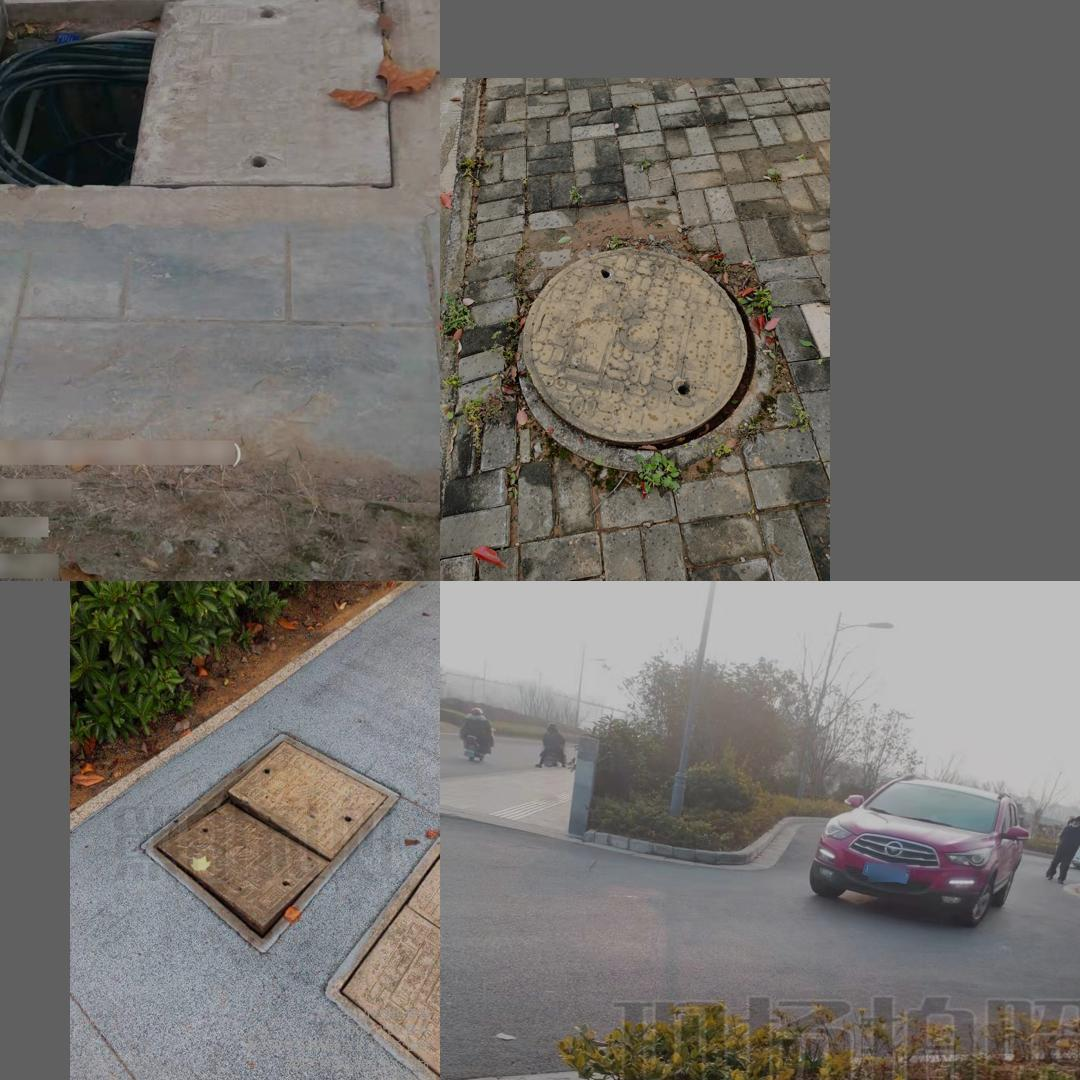uncovered: (0, 0, 394, 187), (516, 245, 774, 473), (140, 732, 400, 954)
